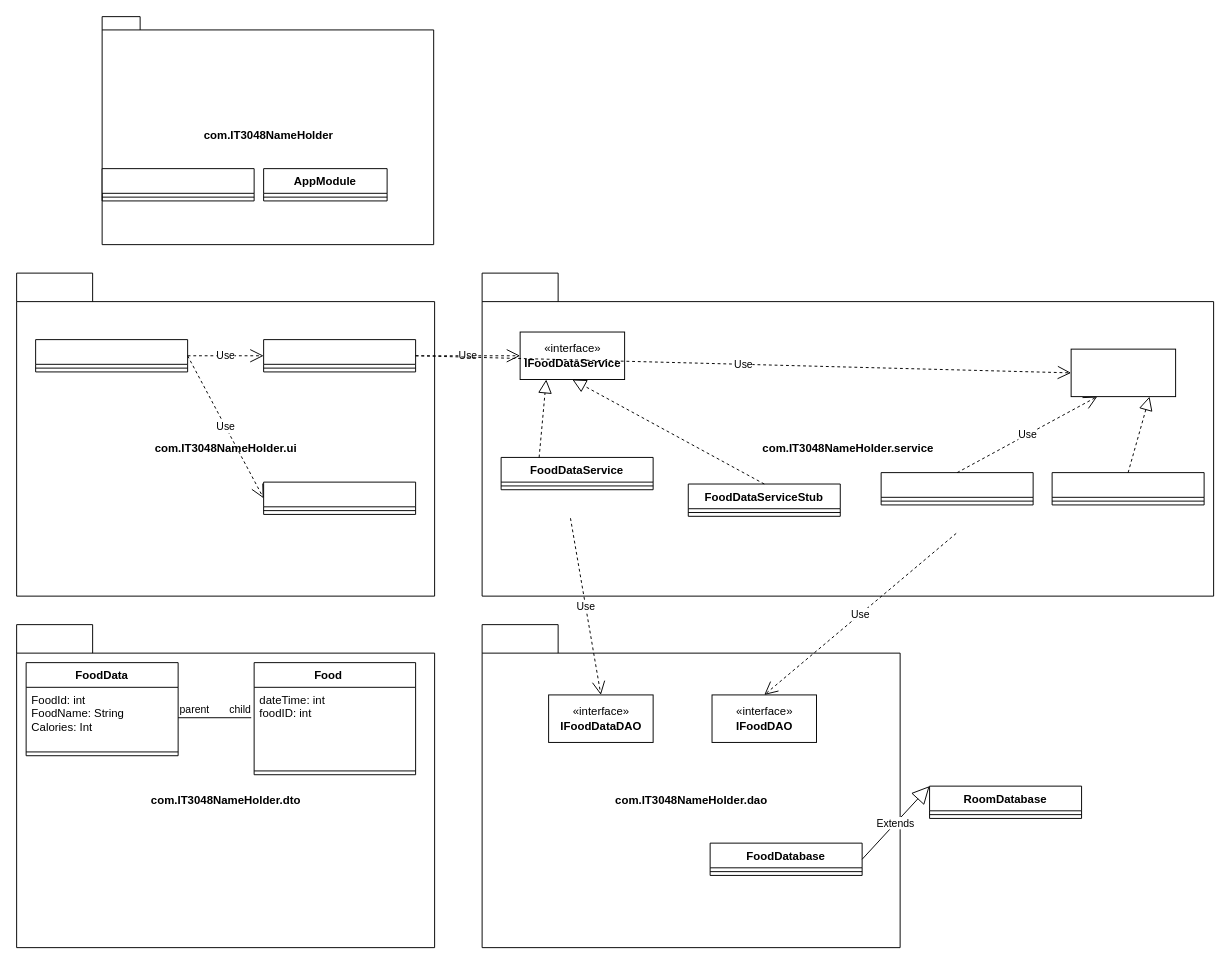
Image size: 1230x964. Some labels were removed from this diagram. The shapes that lost their labels are listed below. From the top down, each one's centre as x and y in pixels, then its label:
At (x=177, y=184): "RetrofitClientInstance".
At (x=111, y=355): "MainActivity".
At (x=339, y=355): "ViewModel".
At (x=1123, y=372): "«interface» IFoodService".
At (x=339, y=497): "ApplicationViewModel".
At (x=956, y=488): "FoodService".
At (x=1127, y=488): "FoodServiceStub".
